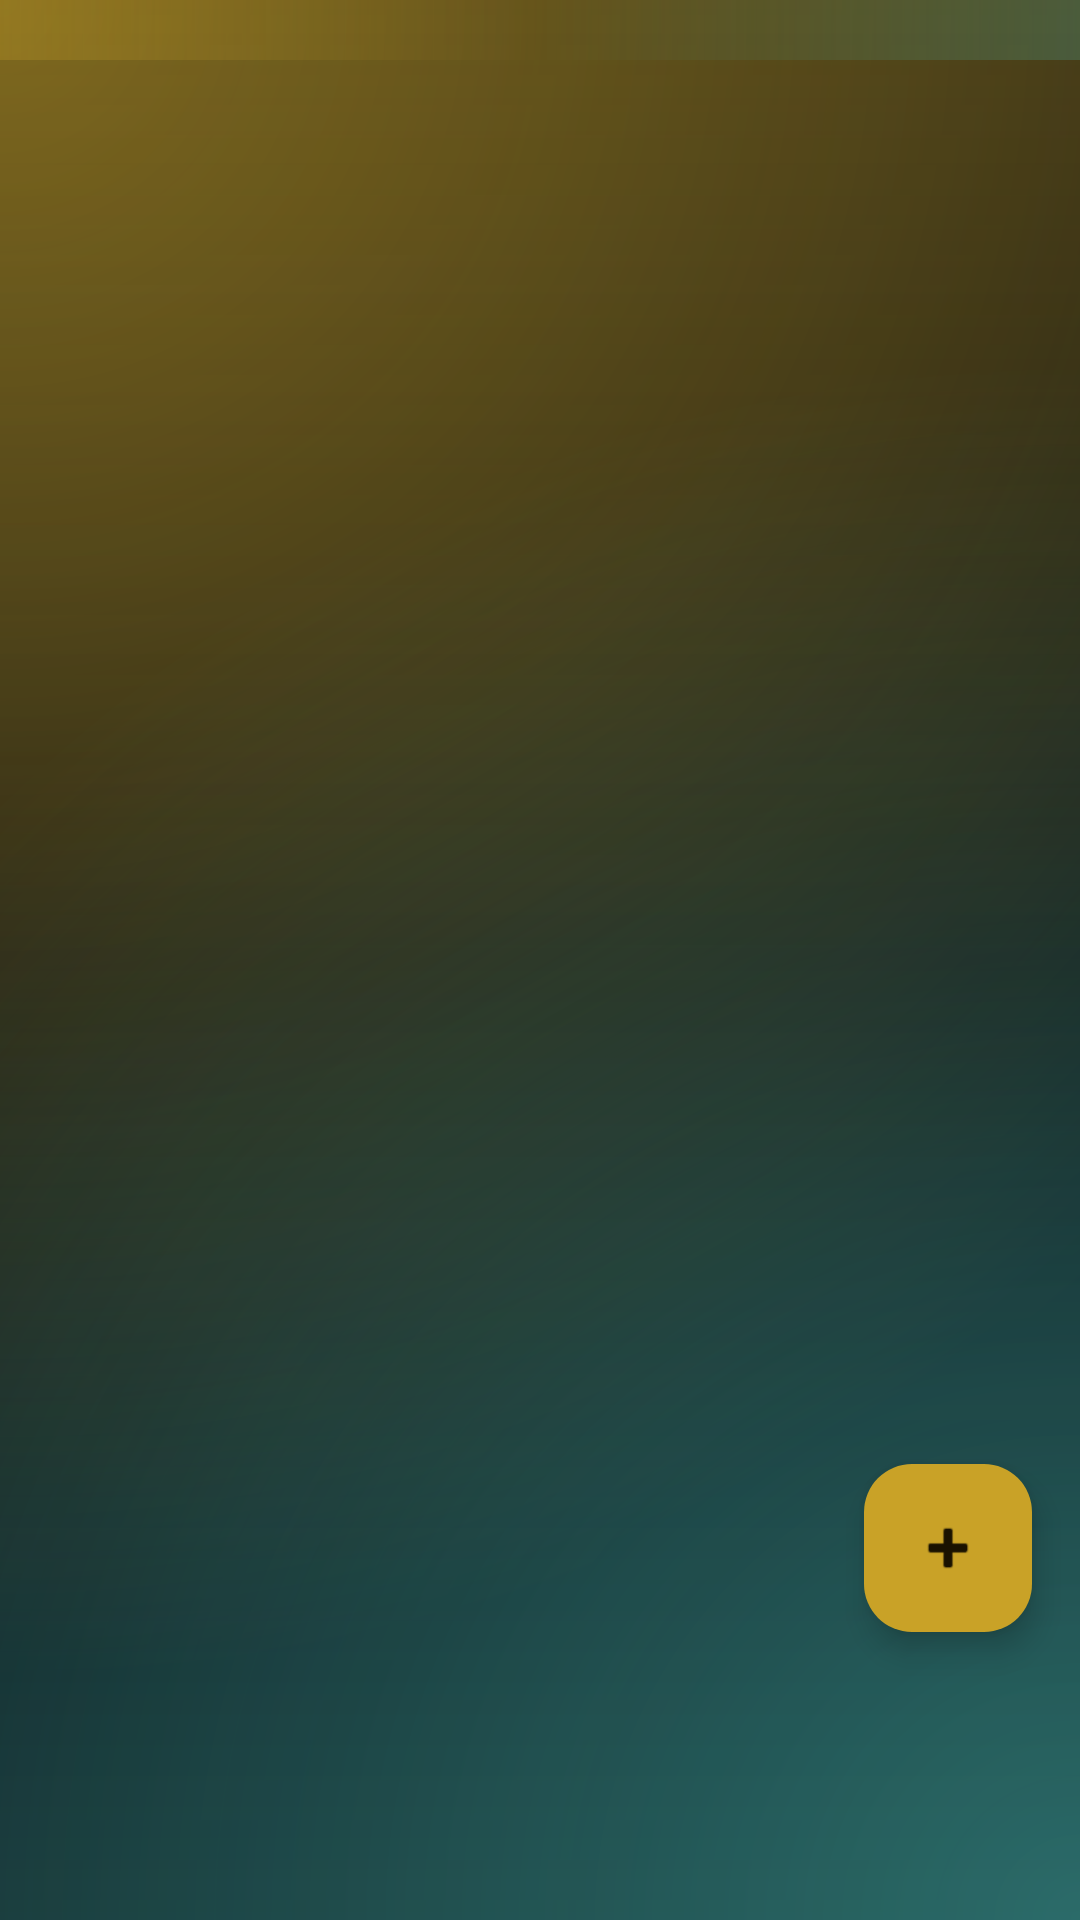

Icon bounding boxes for this 1080w x 1920h phone screenshot, format (x1, y1, x2, y2):
New Playlist: (864, 1464, 1032, 1632)
